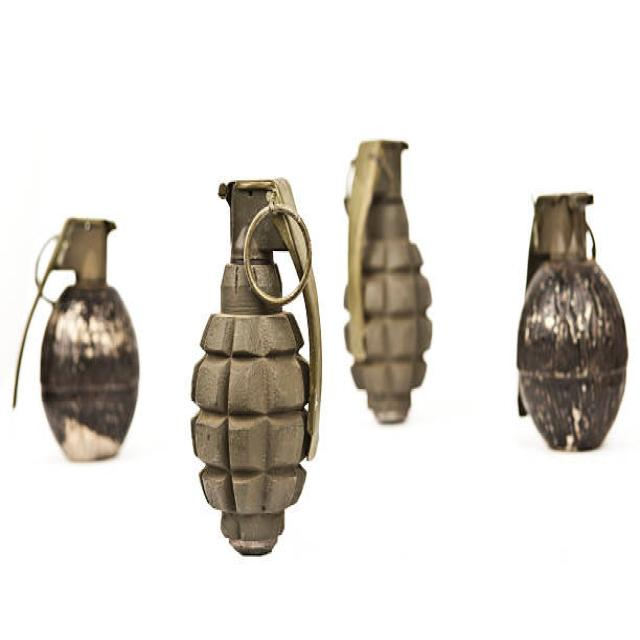grenade: (187, 174, 325, 563), (7, 209, 149, 465), (515, 183, 630, 460), (338, 132, 434, 434)
